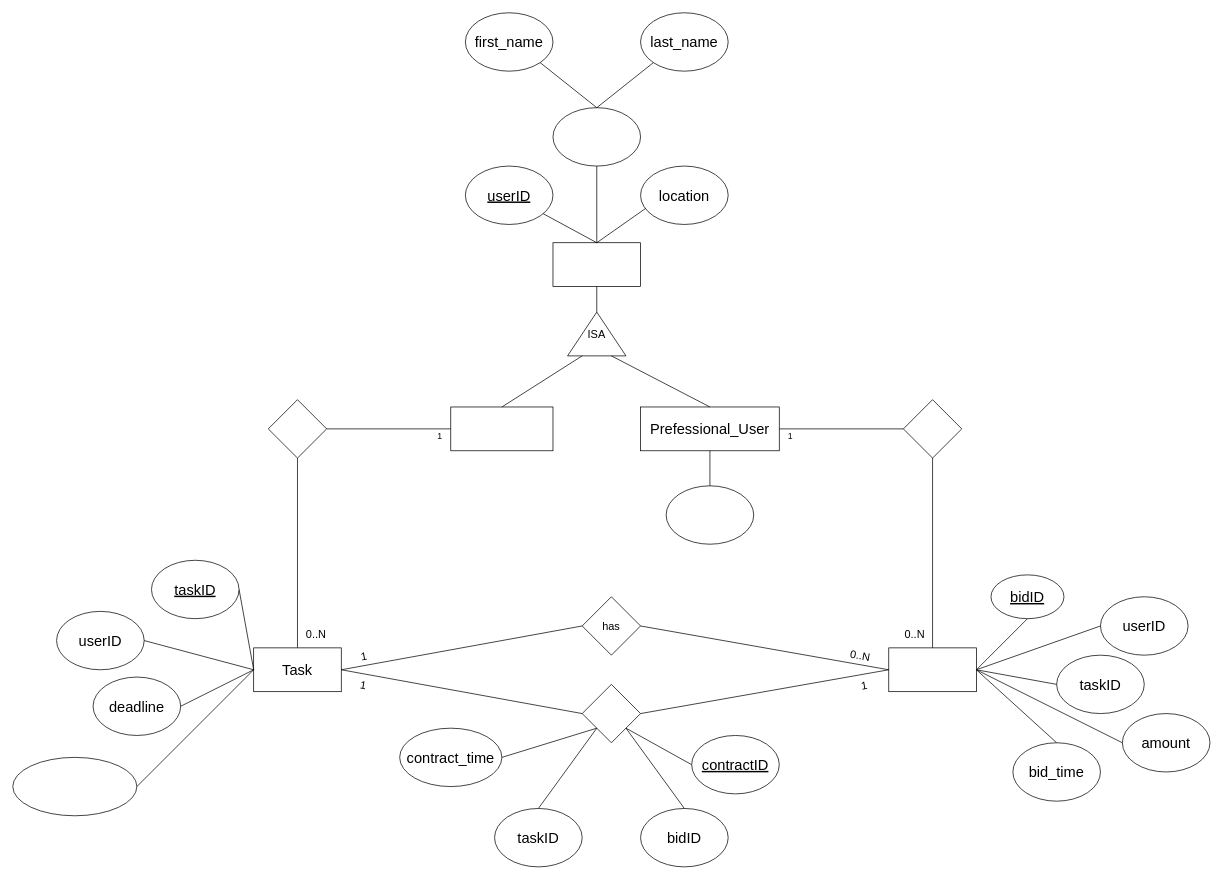
The diagram is 1223 pixels wide and 880 high, and some of its shapes have lost their labels. The shapes that lost their labels are listed below. From the top down, each one's box as (x1, y1, x2, y2) in pixels, then its label:
(552, 107, 641, 166): name
(552, 242, 641, 287): User
(268, 399, 327, 458): requests
(450, 406, 553, 451): Simple_User
(903, 399, 962, 458): makes
(665, 485, 754, 544): profession
(888, 647, 976, 692): Bid
(581, 684, 641, 743): signs
(12, 757, 137, 816): work_field
